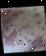plaque psoriasis: (22, 30, 46, 52), (0, 5, 26, 25), (2, 28, 18, 46)
